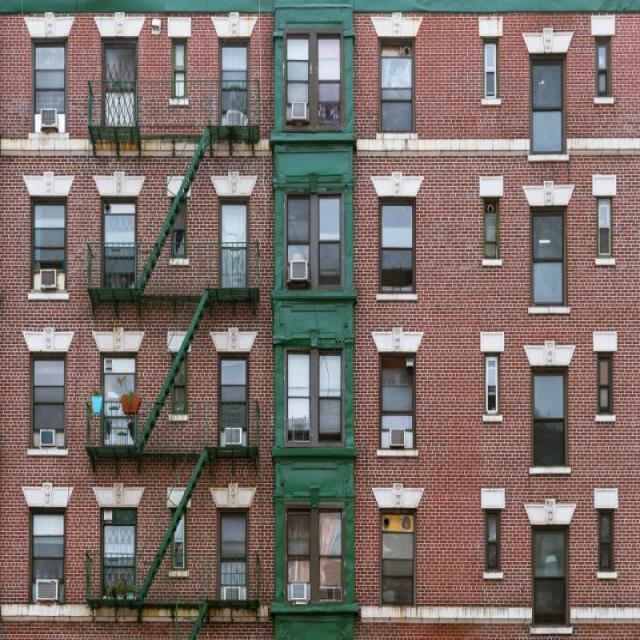Window: (288, 356, 342, 442), (288, 510, 341, 578), (380, 204, 416, 292), (284, 197, 338, 254), (532, 214, 564, 310), (530, 62, 561, 155), (534, 532, 564, 617), (105, 506, 136, 588), (534, 379, 564, 462), (101, 360, 132, 436), (104, 48, 134, 121), (385, 51, 413, 128), (103, 206, 132, 279), (32, 205, 66, 264), (383, 537, 413, 603), (222, 206, 246, 285), (383, 356, 411, 423), (31, 516, 62, 576), (34, 46, 64, 106), (219, 362, 248, 424), (34, 362, 61, 427), (220, 43, 249, 101), (320, 40, 340, 122), (218, 518, 244, 576), (290, 38, 310, 103), (174, 42, 190, 100), (596, 354, 612, 408), (484, 202, 500, 256), (485, 44, 500, 101), (598, 512, 614, 564), (485, 357, 501, 409), (597, 200, 612, 255), (172, 202, 186, 253), (171, 358, 184, 403), (487, 518, 499, 564), (172, 512, 182, 564), (598, 44, 609, 90)
